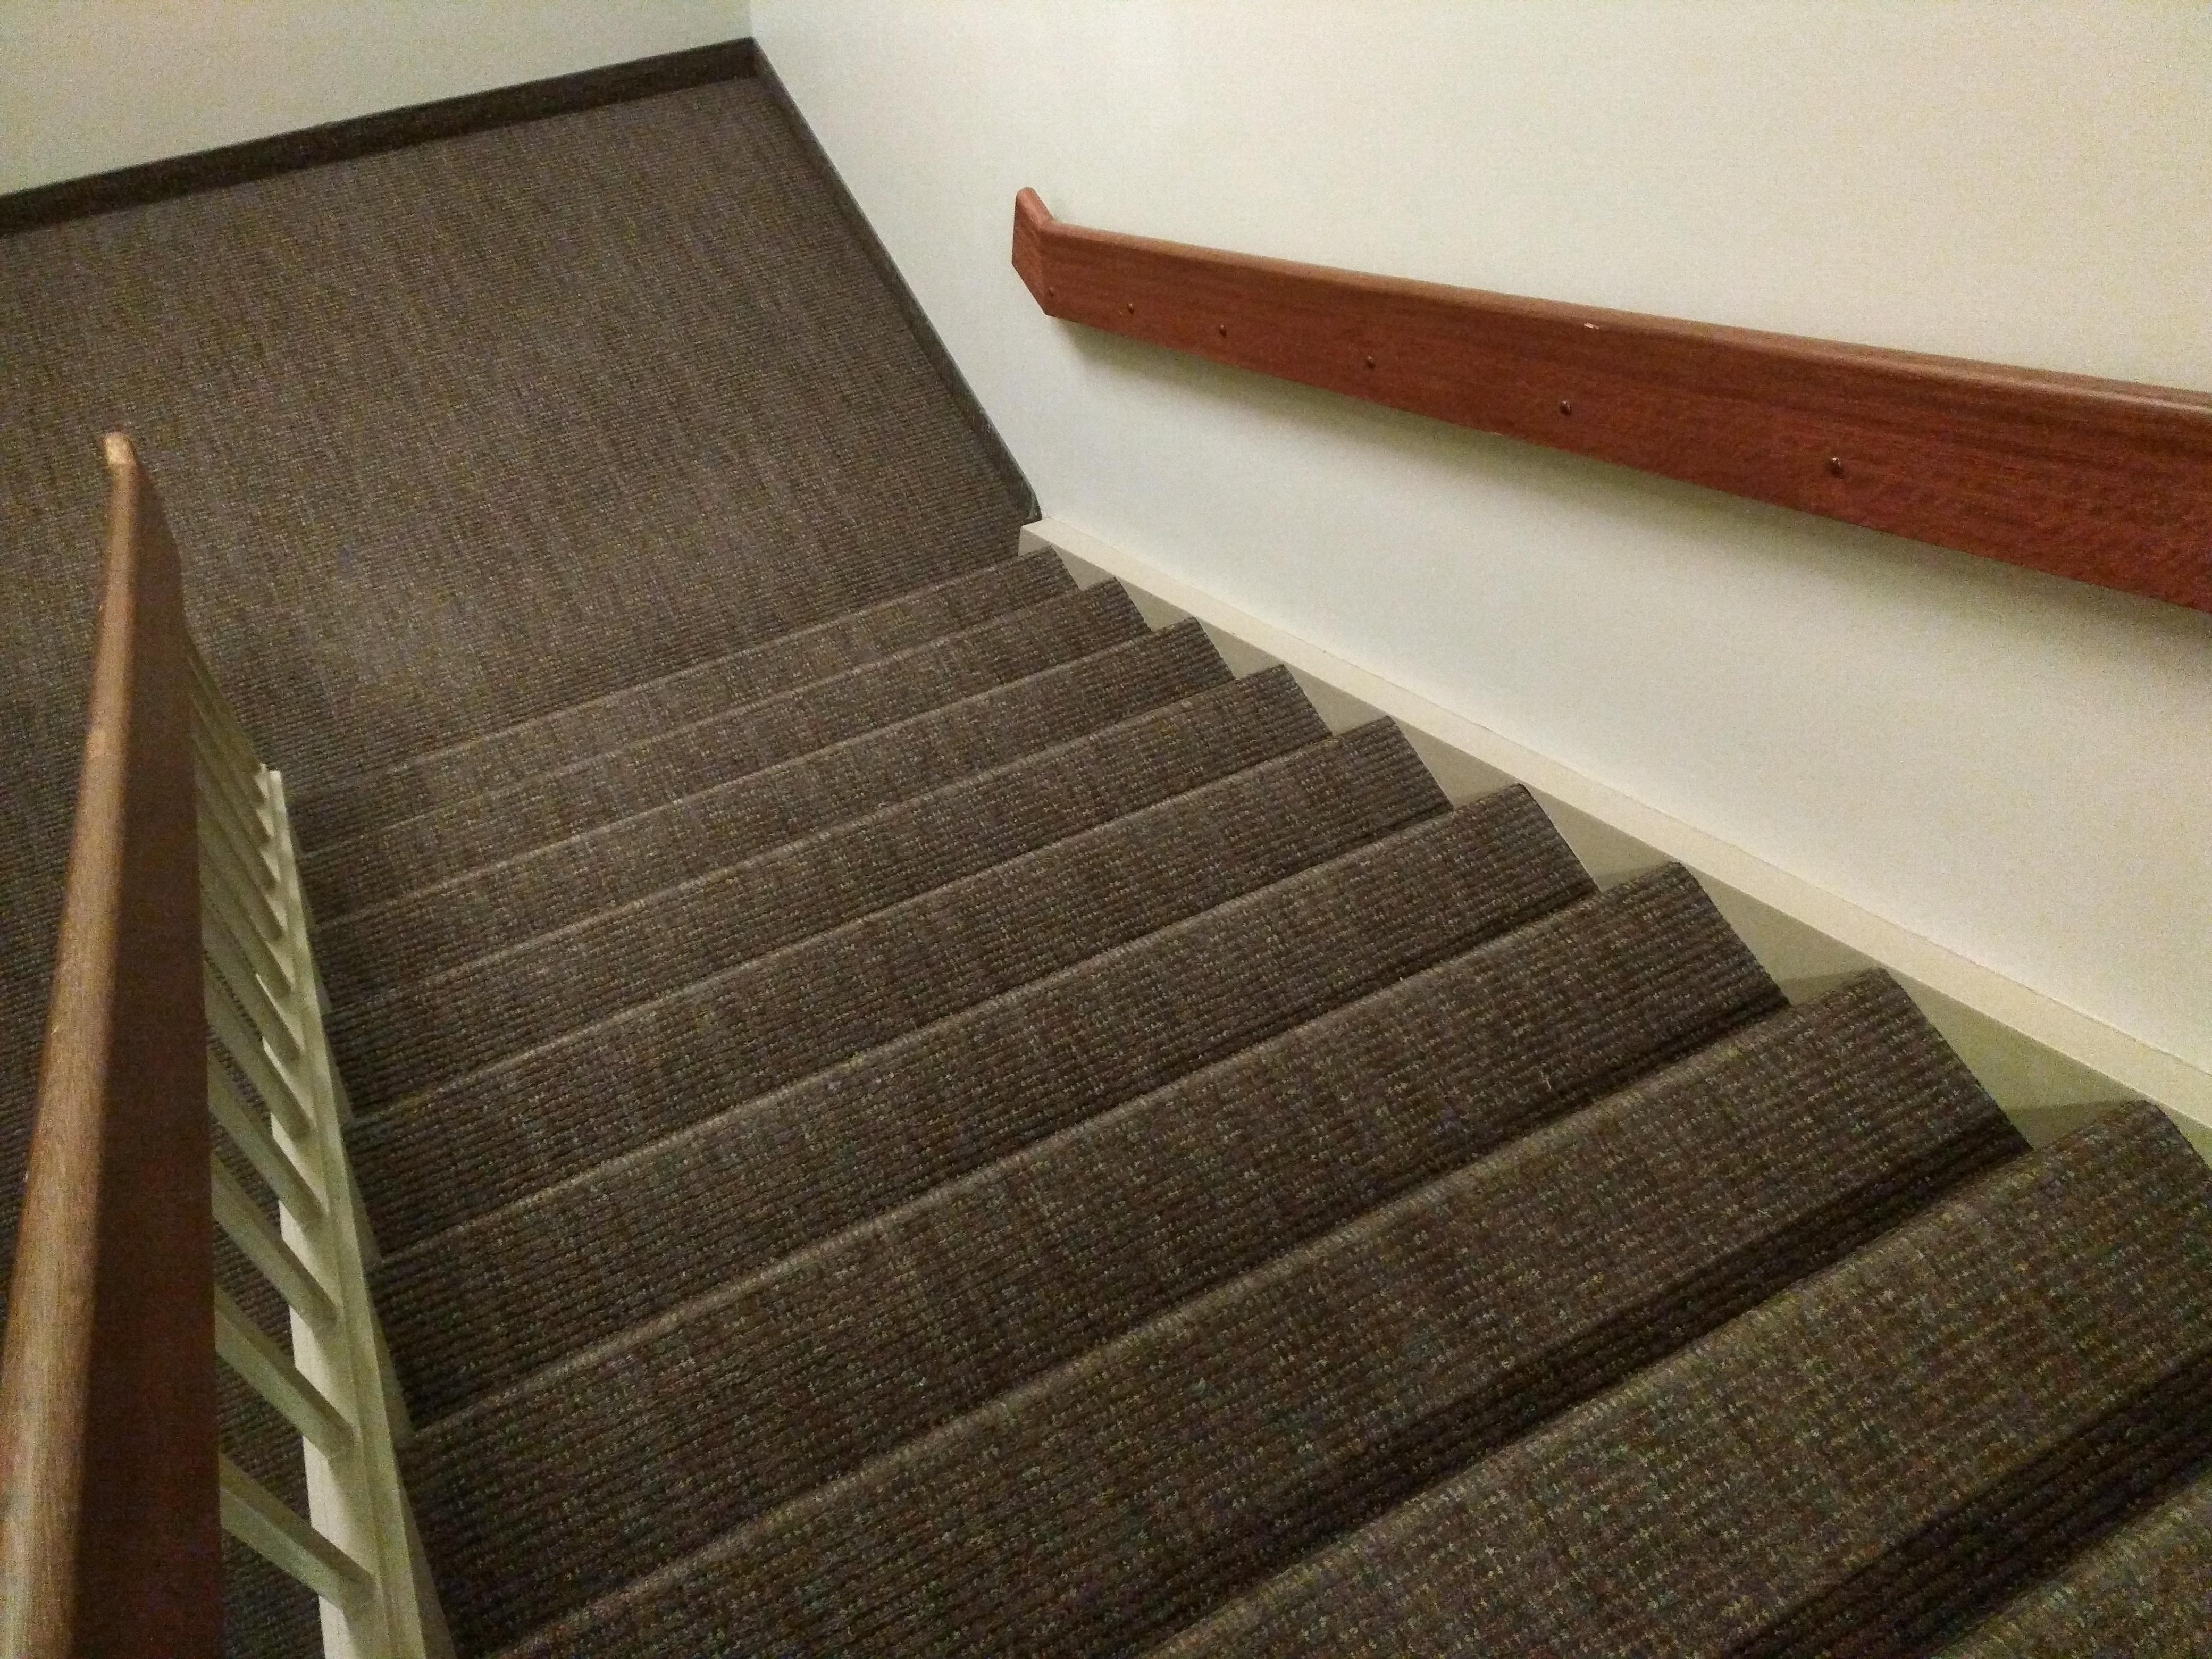stairs_down: (235, 551, 2203, 1659)
